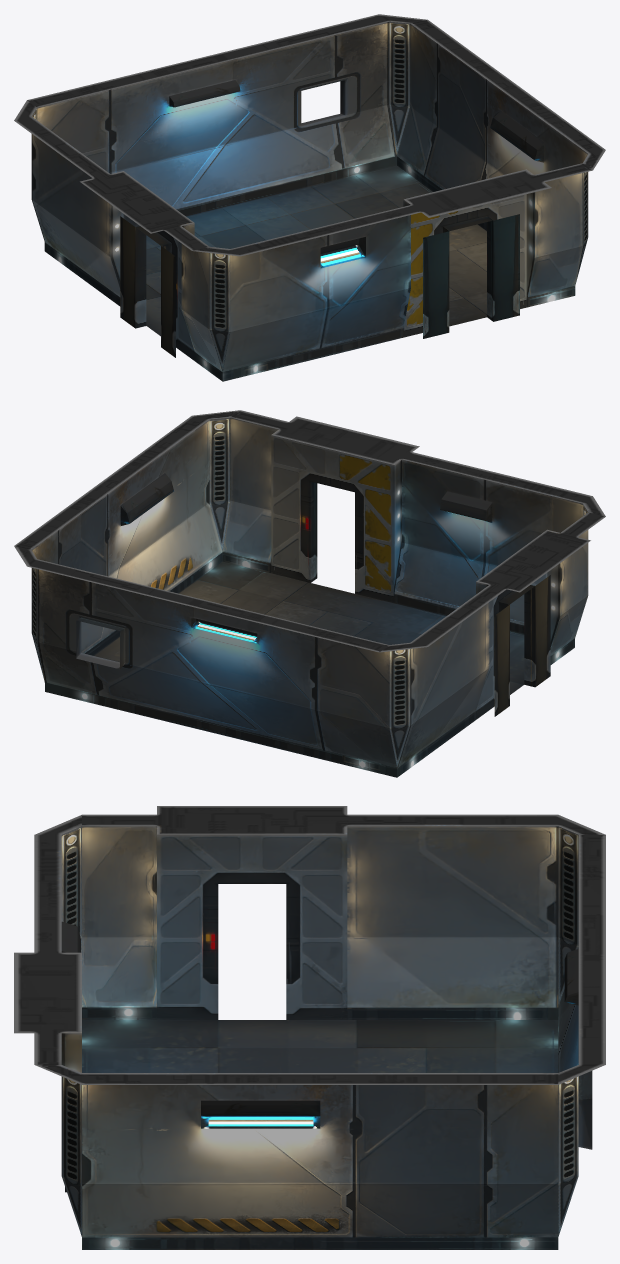
Rendered from cargo-hall-int.obj.
The picture shows the model from 3 angles, top to bottom: view 1: azimuth 30°, elevation 25°; view 2: azimuth 150°, elevation 25°; view 3: azimuth 270°, elevation 25°; orthographic projection. The views are drawn at different scales.
Parts seen in each view (by area): view 1: basic-frame-low.004_Cube.003; view 2: basic-frame-low.004_Cube.003; view 3: basic-frame-low.004_Cube.003.
Boxes of the visible parts, x1,y1,x2,y2 form: basic-frame-low.004_Cube.003: (14,14,605,381); basic-frame-low.004_Cube.003: (14,410,605,777); basic-frame-low.004_Cube.003: (14,806,605,1249).
Bounding box in the file's own units: 9.7 × 3.01 × 8.7.
